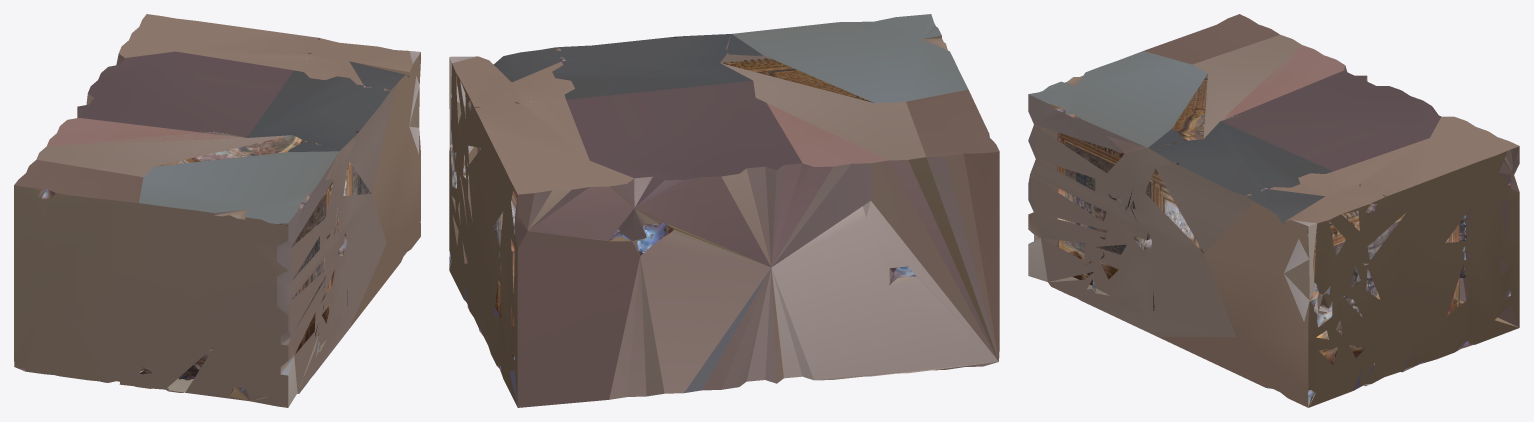
Rendered from candidate.roomkit.living-room-c197.glb.
3 views of the same model, side by side, from view 1: azimuth 30°, elevation 25°; view 2: azimuth 150°, elevation 25°; view 3: azimuth 270°, elevation 25° (orthographic). The views are drawn at different scales.
Visible parts, largest first — view 1: Object_2, Object_3, Object_5, Object_4, Object_6; view 2: Object_2, Object_11, Object_3, Object_9; view 3: Object_2, Object_3, Object_5, Object_7, Object_4, Object_6, Object_10, Object_11, Object_8, Object_13, Object_15.
Part boxes in pixels (bbox=[...]): Object_2: bbox=[14, 14, 420, 407]; Object_3: bbox=[199, 135, 368, 348]; Object_5: bbox=[209, 137, 346, 354]; Object_4: bbox=[226, 138, 361, 336]; Object_6: bbox=[201, 160, 351, 373]; Object_2: bbox=[449, 14, 999, 407]; Object_11: bbox=[499, 61, 871, 317]; Object_3: bbox=[451, 64, 657, 226]; Object_9: bbox=[501, 60, 856, 252]; Object_2: bbox=[1028, 14, 1519, 407]; Object_3: bbox=[1058, 114, 1345, 353]; Object_5: bbox=[1073, 113, 1414, 362]; Object_7: bbox=[1057, 114, 1359, 253]; Object_4: bbox=[1058, 142, 1390, 385]; Object_6: bbox=[1057, 151, 1466, 365]; Object_10: bbox=[1057, 105, 1460, 356]; Object_11: bbox=[1078, 80, 1465, 351]; Object_8: bbox=[1064, 108, 1469, 352]; Object_13: bbox=[1079, 78, 1207, 191]; Object_15: bbox=[1110, 112, 1458, 308].
Size of the model in its own units: 14.29 by 5.71 by 13.99.
Materials: 1 (1 with a texture image).
